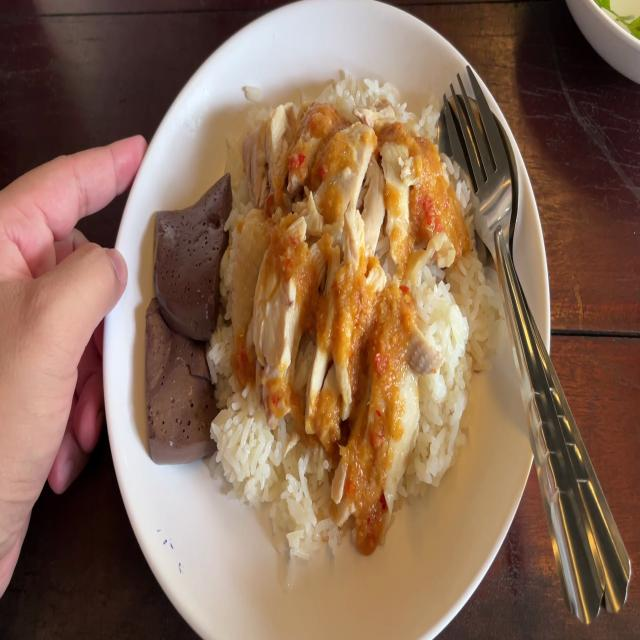chicken_rice: (248, 108, 436, 420)
noodle: (144, 165, 236, 333), (140, 308, 226, 462)
